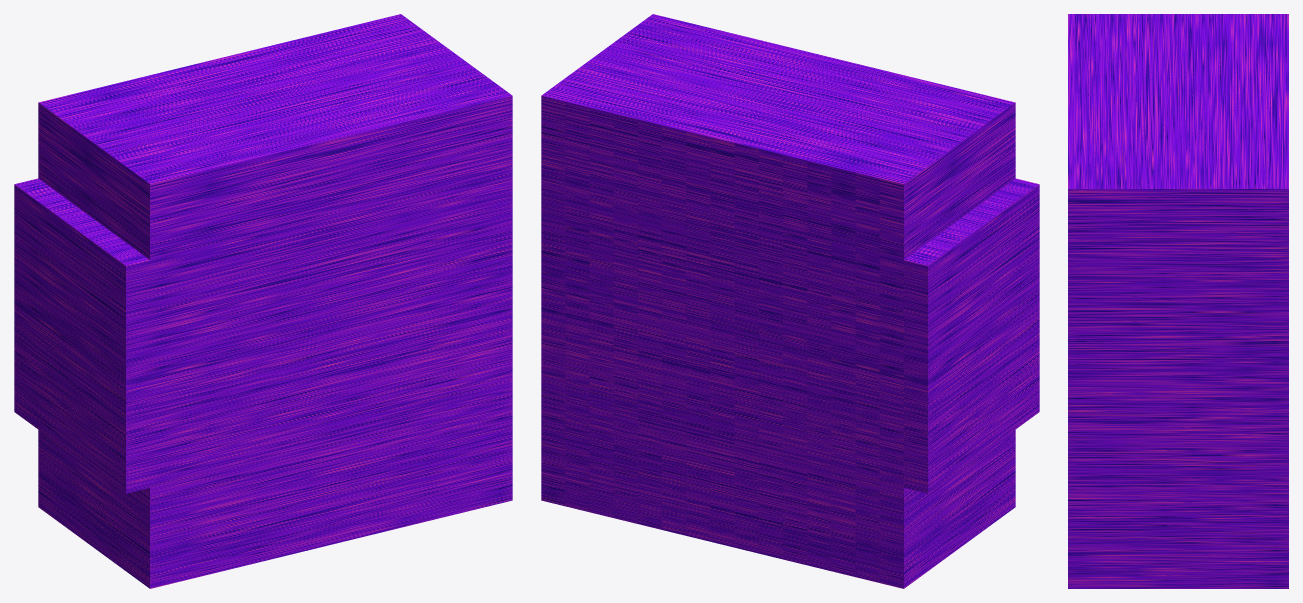
The model's file is tier0_piece_10.obj.
The picture shows the model from 3 angles, left to right: view 1: azimuth 30°, elevation 25°; view 2: azimuth 150°, elevation 25°; view 3: azimuth 270°, elevation 25°; orthographic projection.
Parts seen in each view (by area): view 1: tier0_piece_10; view 2: tier0_piece_10; view 3: tier0_piece_10.
Boxes of the visible parts, box(x1,y1,x2,y2) form: tier0_piece_10: box(14, 14, 512, 588); tier0_piece_10: box(541, 14, 1039, 588); tier0_piece_10: box(1068, 14, 1288, 588).
Size of the model in its own units: 1 by 1 by 0.5.
